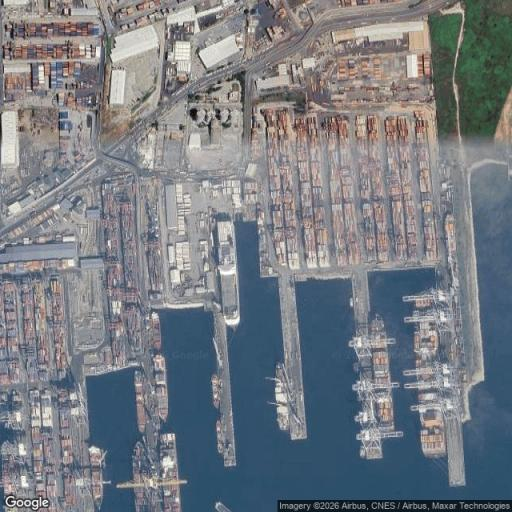ship: (413, 290, 446, 456), (371, 314, 395, 427), (218, 222, 239, 332), (161, 434, 180, 511), (132, 443, 149, 511), (152, 355, 168, 424), (274, 364, 290, 429), (89, 446, 103, 509), (136, 371, 145, 432), (151, 313, 161, 350), (211, 375, 220, 408), (216, 420, 223, 452)
